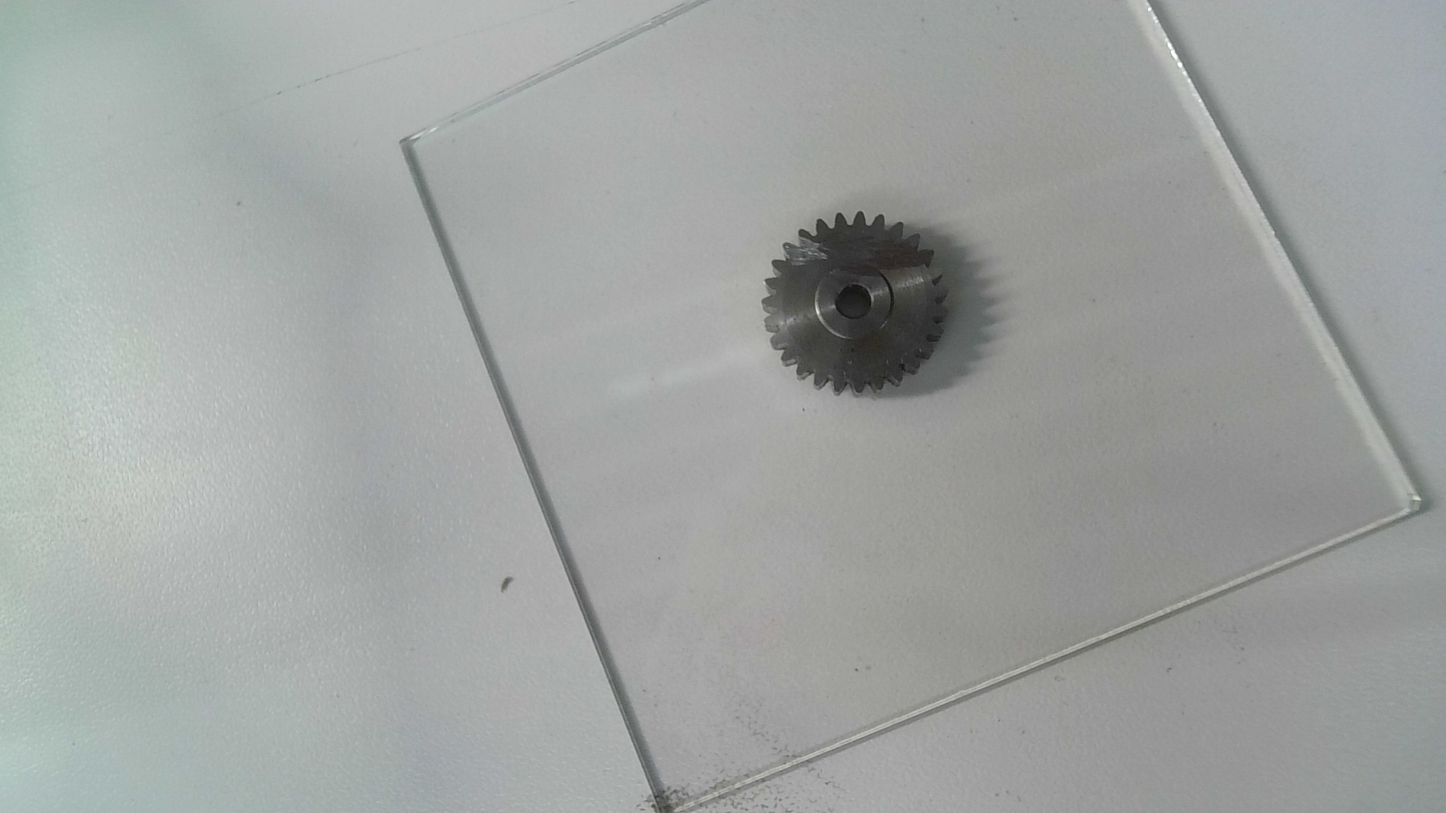gear: (760, 209, 952, 399)
